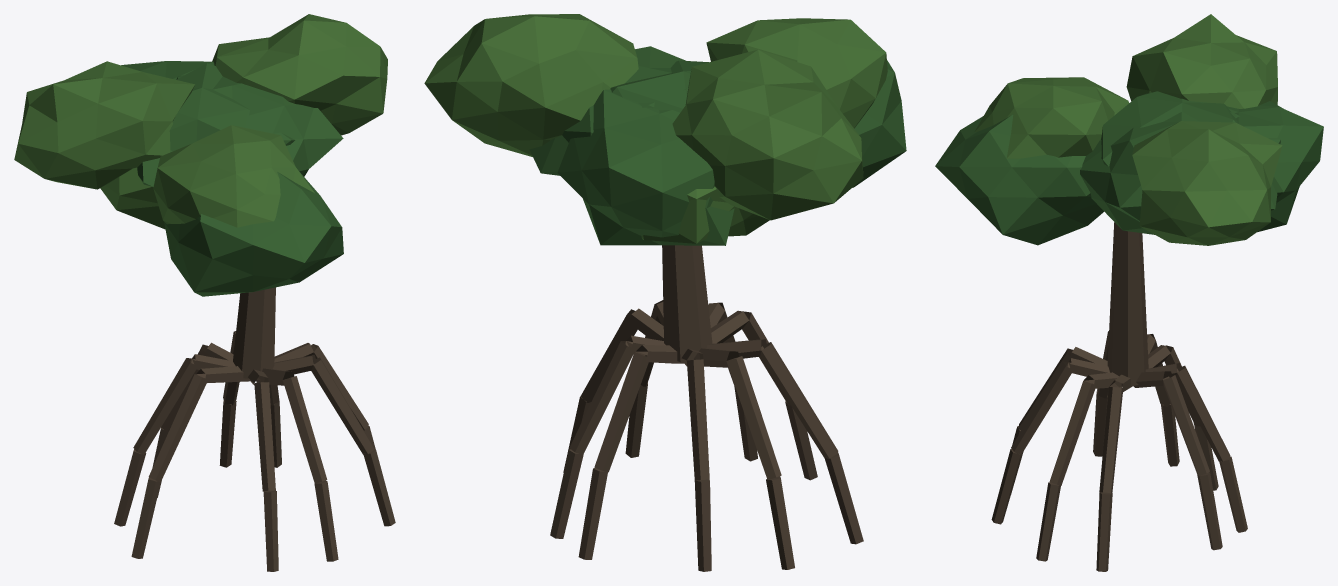
File: SW_Tree_Mangrove.obj
3 renders of one model, left to right at view 1: azimuth 30°, elevation 25°; view 2: azimuth 150°, elevation 25°; view 3: azimuth 270°, elevation 25°, orthographic. The views are drawn at different scales.
Visible parts, largest first — view 1: canopy_4, canopy_3, canopy_2, canopy_0, canopy_5, canopy_7, trunk, canopy_6, root_4_1, root_3_1, root_2_1, root_1_1 (+12 smaller); view 2: canopy_4, canopy_2, canopy_1, canopy_0, trunk, canopy_3, canopy_5, canopy_6, canopy_7, root_4_1, root_5_1, root_7_1 (+16 smaller); view 3: canopy_2, canopy_3, canopy_4, canopy_0, trunk, canopy_1, canopy_5, canopy_7, root_0_1, root_8_1, root_1_1, root_7_1 (+10 smaller).
Boxes of the visible parts, box(x1,y1,x2,y2) form: canopy_4: box(14, 61, 194, 189); canopy_3: box(164, 171, 343, 296); canopy_2: box(212, 14, 387, 135); canopy_0: box(153, 125, 314, 227); canopy_5: box(176, 75, 343, 176); canopy_7: box(137, 63, 295, 187); trunk: box(233, 287, 275, 379); canopy_6: box(100, 167, 165, 229); root_4_1: box(148, 374, 206, 482); root_3_1: box(254, 382, 275, 491); root_2_1: box(282, 376, 327, 483); root_1_1: box(311, 357, 374, 454); canopy_4: box(672, 49, 863, 220); canopy_2: box(424, 14, 638, 156); canopy_1: box(557, 89, 734, 245); canopy_0: box(706, 18, 887, 128); trunk: box(662, 245, 712, 362); canopy_3: box(852, 60, 906, 187); canopy_5: box(529, 46, 686, 175); canopy_6: box(641, 147, 769, 243); canopy_7: box(610, 60, 708, 112); root_4_1: box(760, 342, 838, 458); root_5_1: box(726, 356, 781, 479); root_7_1: box(594, 351, 648, 472); canopy_2: box(1132, 121, 1282, 245); canopy_3: box(935, 114, 1103, 245); canopy_4: box(1126, 14, 1277, 108); canopy_0: box(974, 77, 1128, 158); trunk: box(1107, 222, 1148, 386); canopy_1: box(1227, 101, 1323, 232); canopy_5: box(1080, 102, 1280, 234); canopy_7: box(1101, 91, 1237, 166); root_0_1: box(1099, 387, 1122, 493); root_8_1: box(1163, 375, 1209, 475); root_1_1: box(1049, 381, 1095, 485); root_7_1: box(1176, 365, 1230, 461).
Size of the model in its own units: 13.54 by 15.53 by 12.67.
